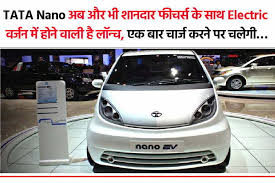Nano: (87, 50, 231, 175)
